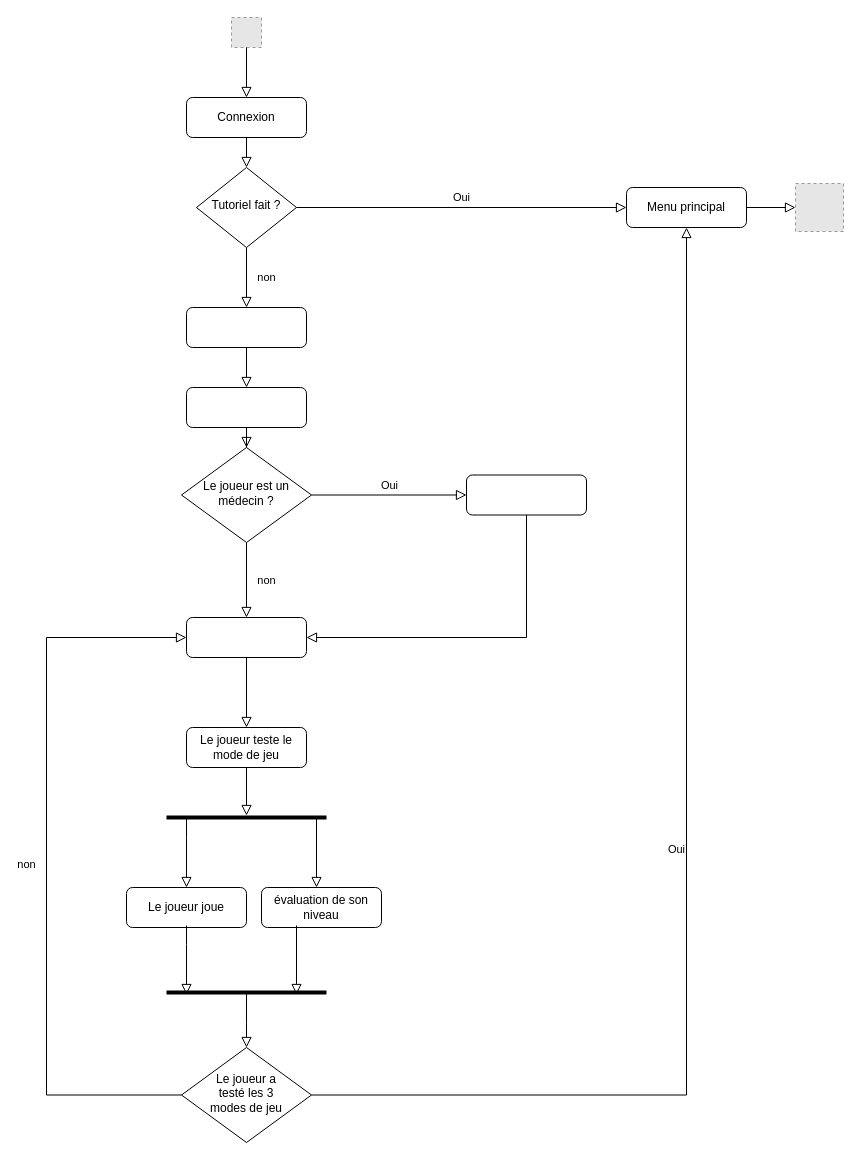
Some shapes in this 861 by 1160 pixel diagram are drawn without their labels. Grey dashed boxes stand in for pictures. The centre of each missing label's shape, as x and y in pixels:
"Introduction de l'histoire" belongs at point 246,327.
"Présentation d'un mode de jeu" belongs at point 246,637.
"Présentation du mode révision" belongs at point 526,494.
"Présentation du tableau en liège" belongs at point 246,407.
